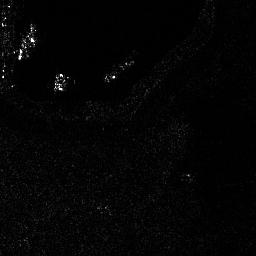ship: (102, 58, 135, 82)
